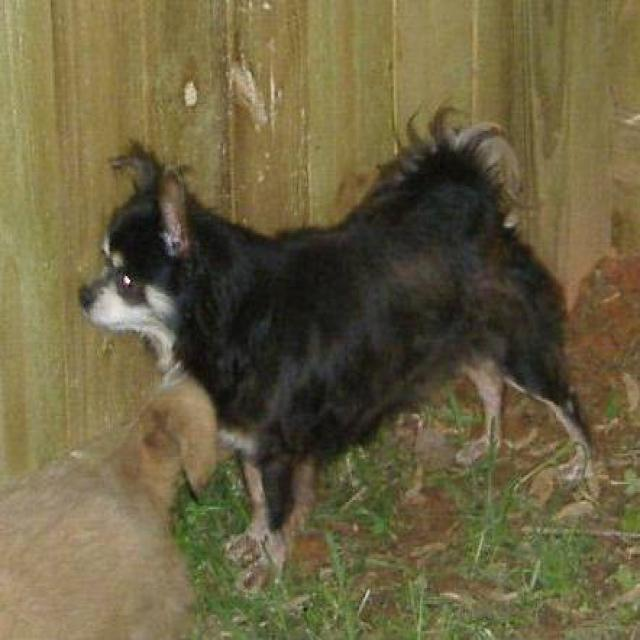dog: (77, 102, 592, 597)
